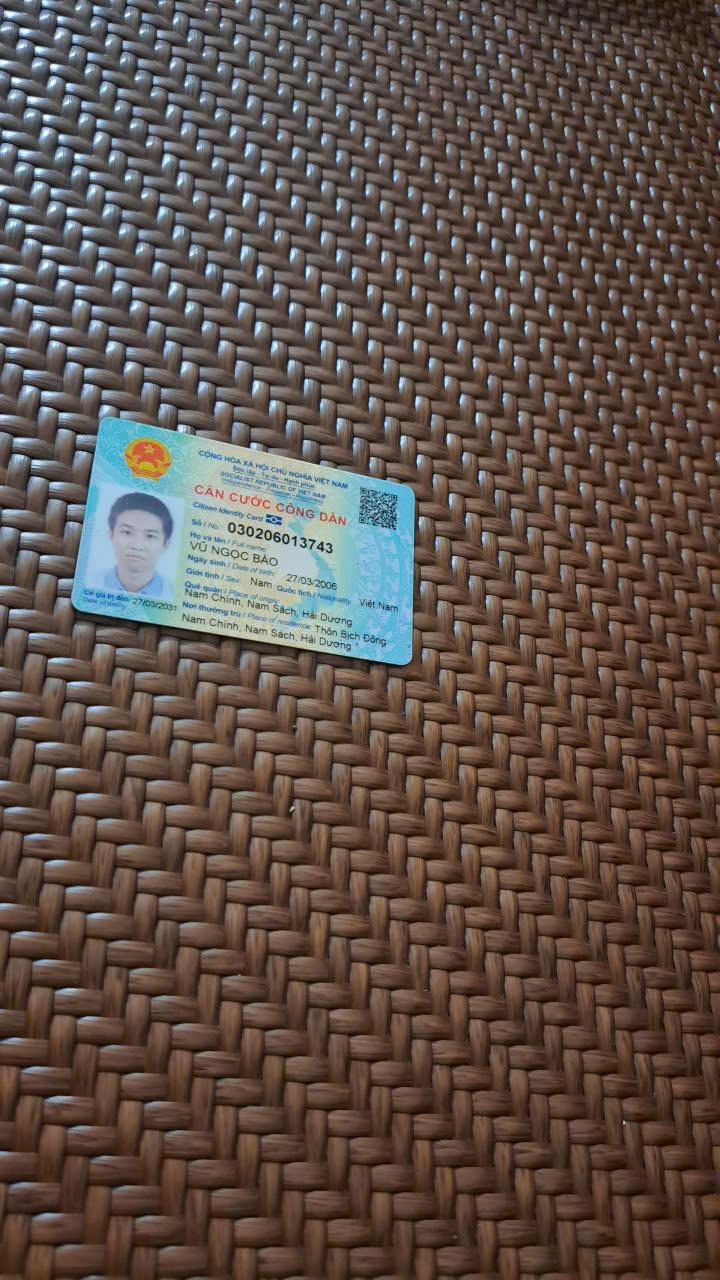cccd: (66, 411, 420, 674)
